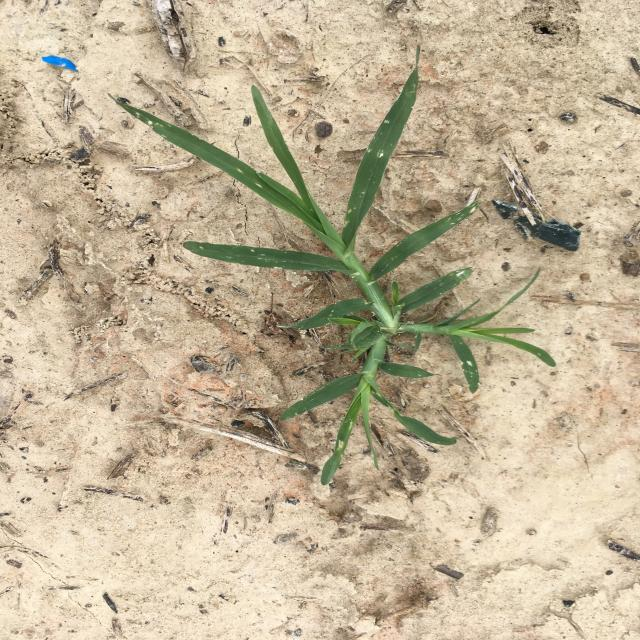Goosegrass: (108, 45, 558, 486)
